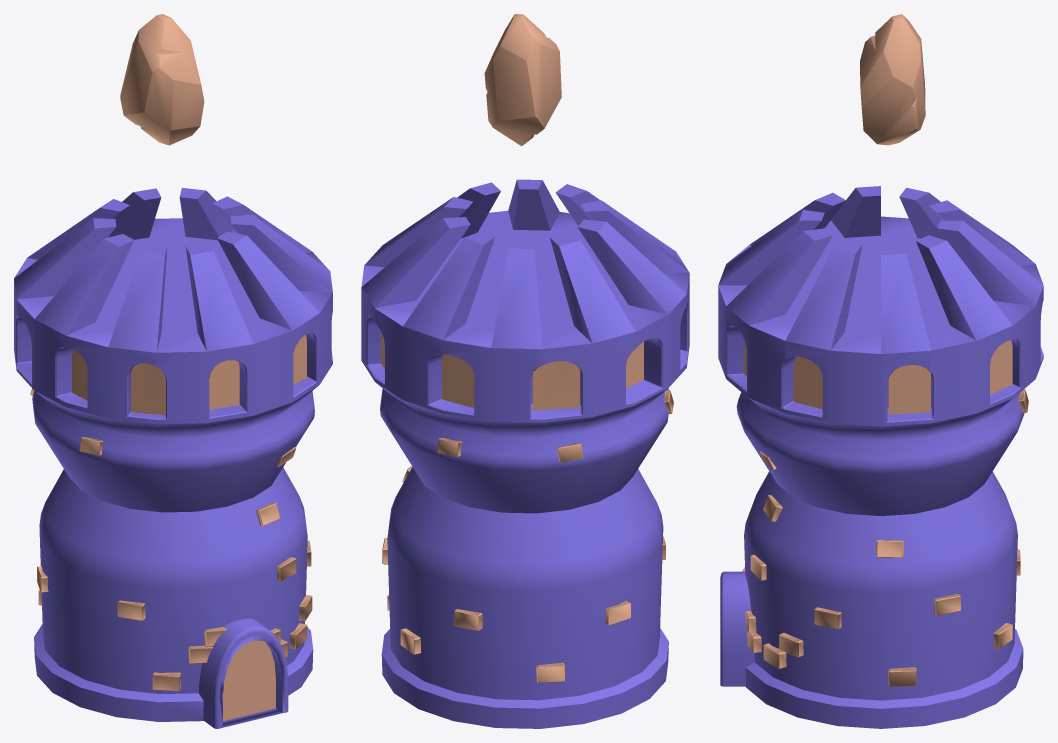
Rendered from towerLV3.fbx.
3 views of the same model, side by side, from view 1: azimuth 30°, elevation 25°; view 2: azimuth 150°, elevation 25°; view 3: azimuth 270°, elevation 25° (orthographic). The views are drawn at different scales.
Parts seen in each view (by area): view 1: Crystal.002; view 2: Crystal.002; view 3: Crystal.002.
Boxes of the visible parts, x1=… form: Crystal.002: x1=14, y1=14, x2=332, y2=728; Crystal.002: x1=361, y1=14, x2=689, y2=728; Crystal.002: x1=718, y1=14, x2=1043, y2=728.
Size of the model in its own units: 199 by 439 by 199.
